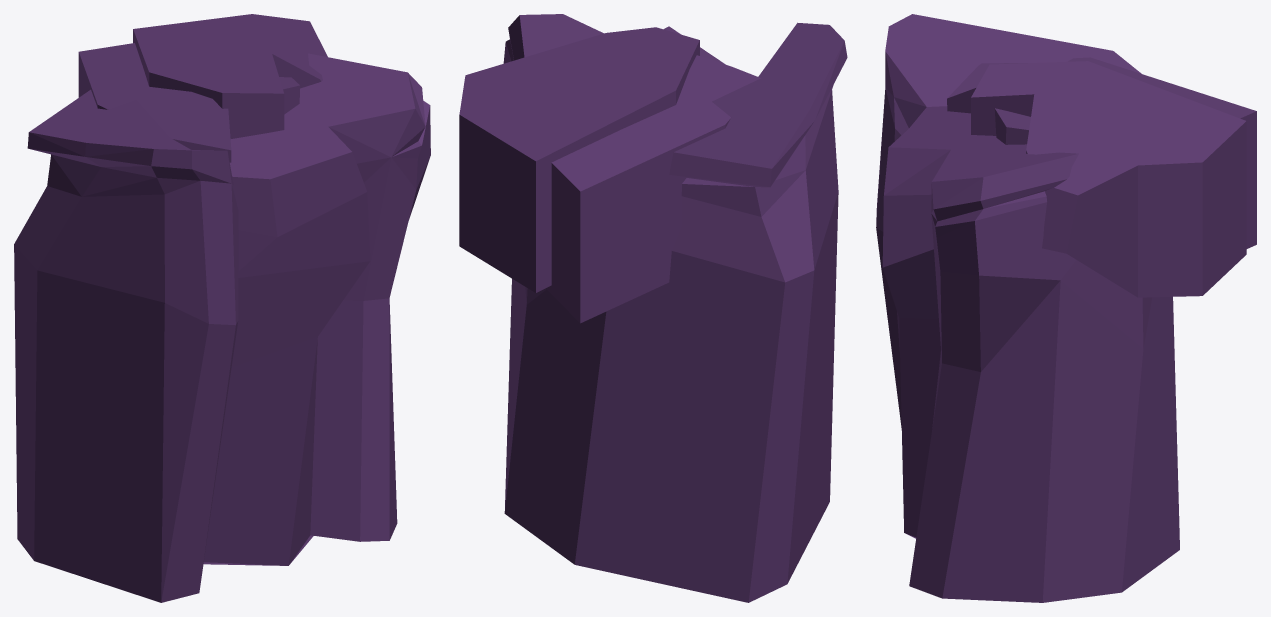
The model's file is Rock_8.fbx.
The picture shows the model from 3 angles, left to right: view 1: azimuth 30°, elevation 25°; view 2: azimuth 150°, elevation 25°; view 3: azimuth 270°, elevation 25°; orthographic projection.
Visible parts, largest first — view 1: rock_model.025; view 2: rock_model.025; view 3: rock_model.025.
Part boxes in pixels (<box>): rock_model.025: <box>14,14,430,602</box>; rock_model.025: <box>459,14,847,602</box>; rock_model.025: <box>876,14,1256,602</box>.
Bounding box in the file's own units: 309 × 400 × 283.
